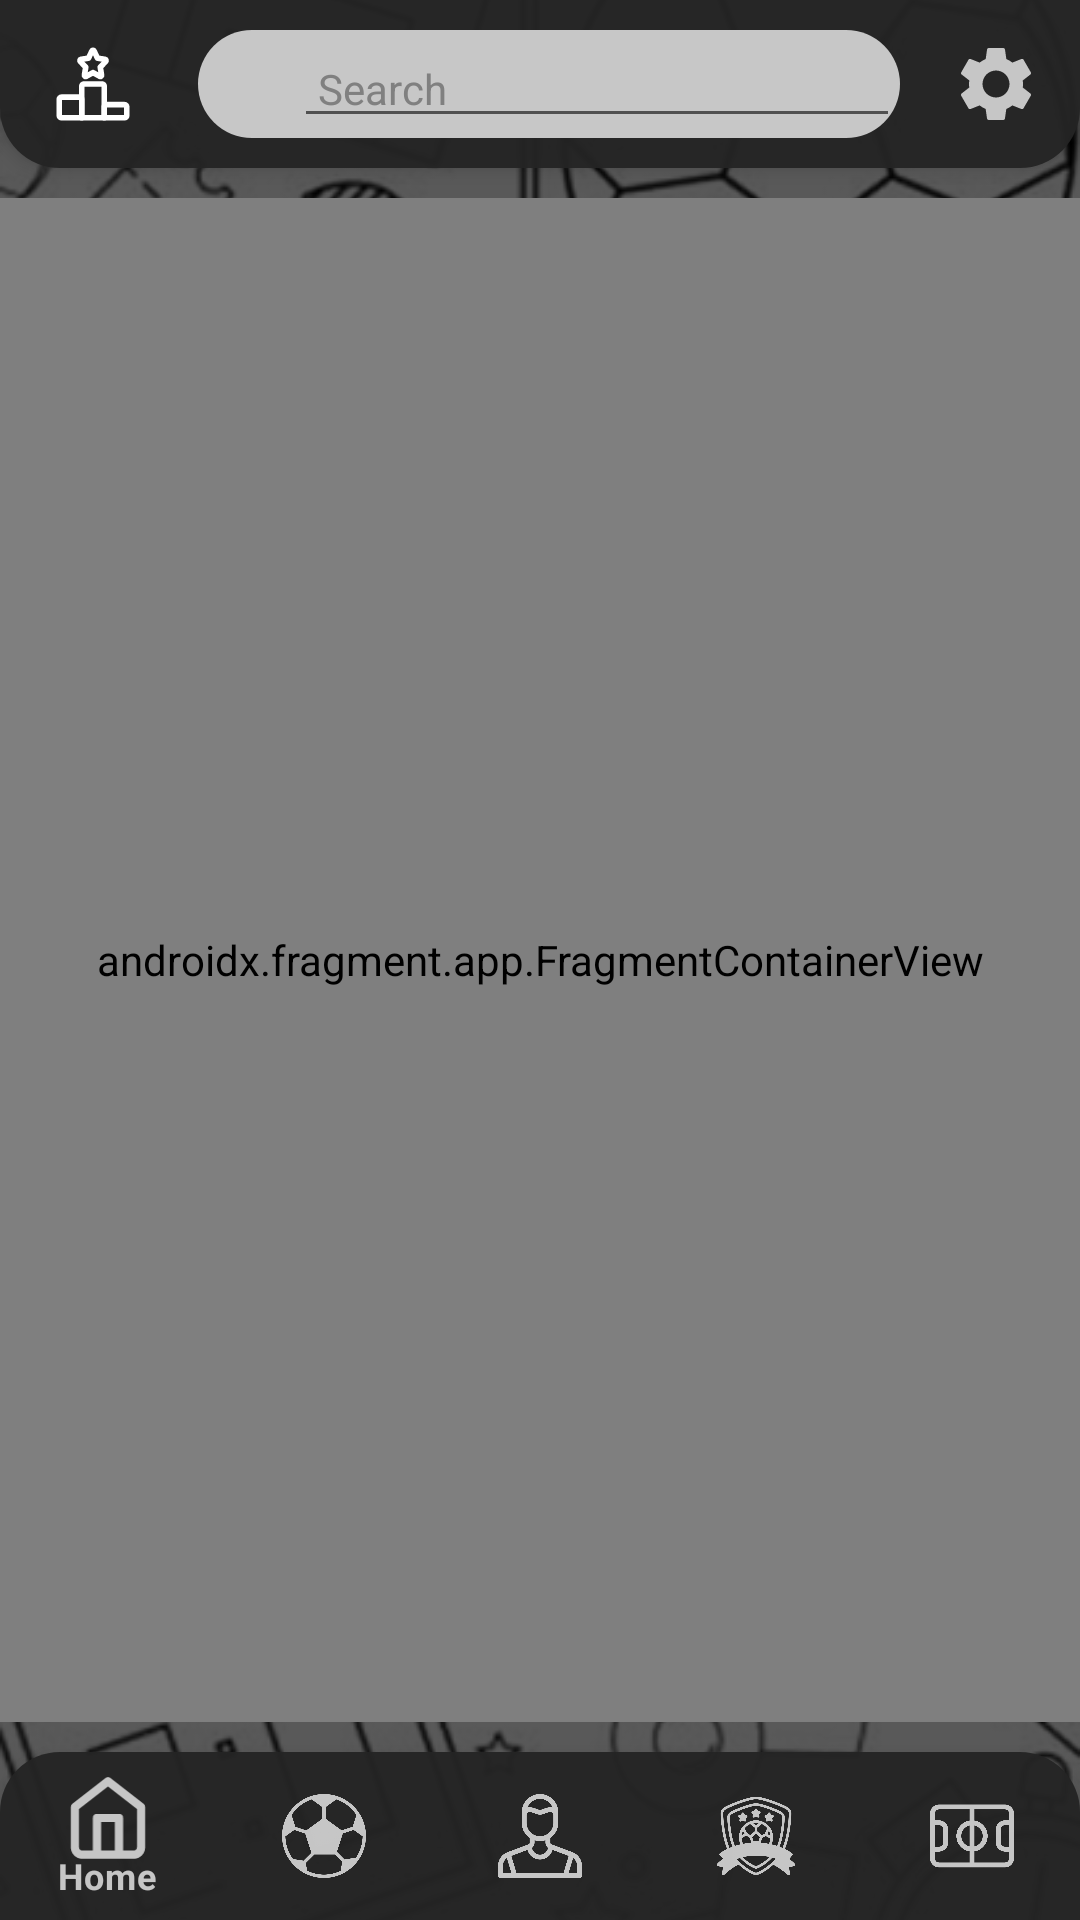

Locate icon controls on the screen. Image size 1080px x 1920px, boxes as (x1, y1, x2, y2).
leaderboard: (56, 47, 130, 121)
settings: (961, 48, 1031, 120)
